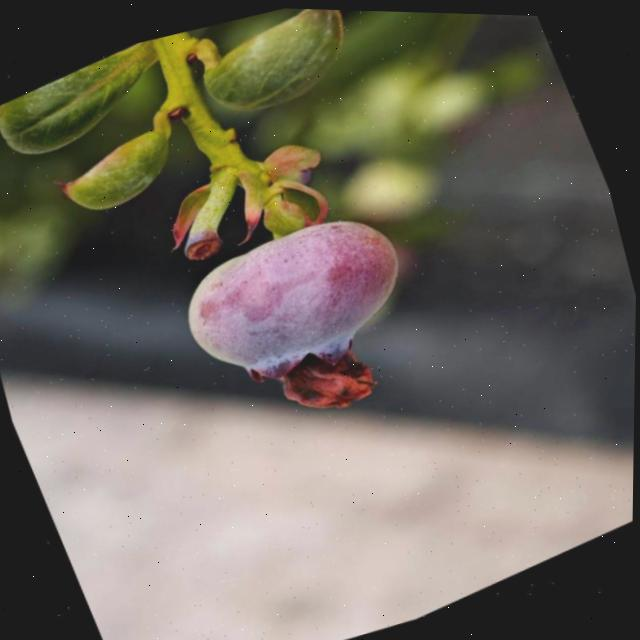Semi-RipeBlueBerry: (153, 182, 440, 411)
